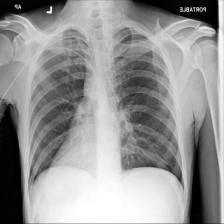normal: (23, 21, 189, 199)
